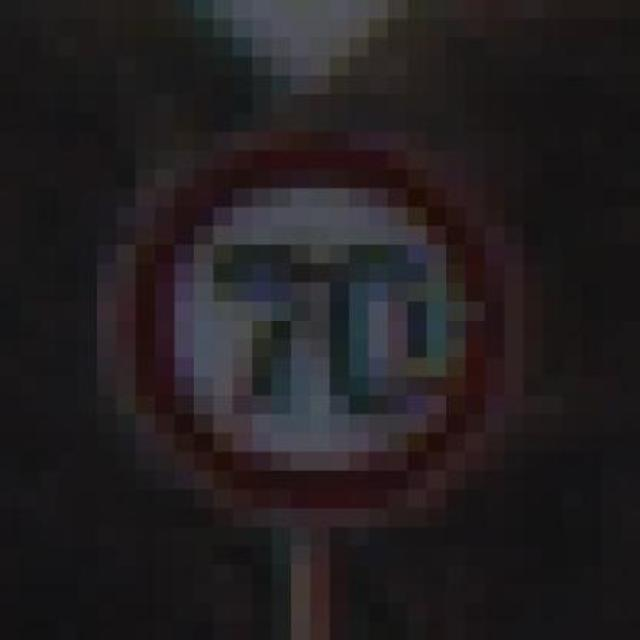forb_speed_over_70: (124, 138, 508, 519)
